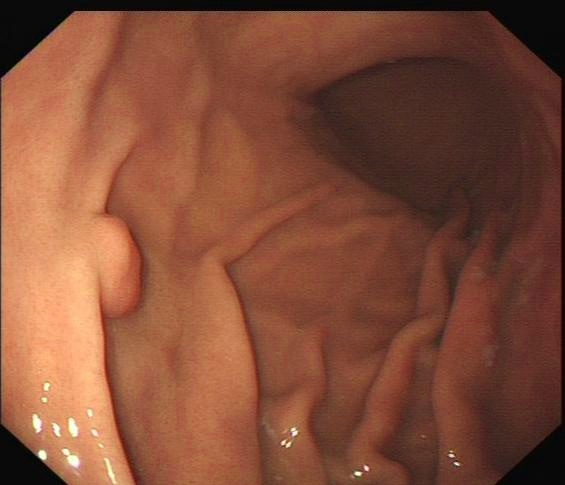Polyp: (69, 208, 156, 339)
